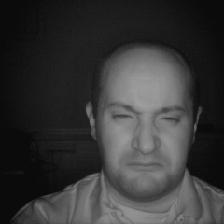sad: (76, 40, 206, 198)
